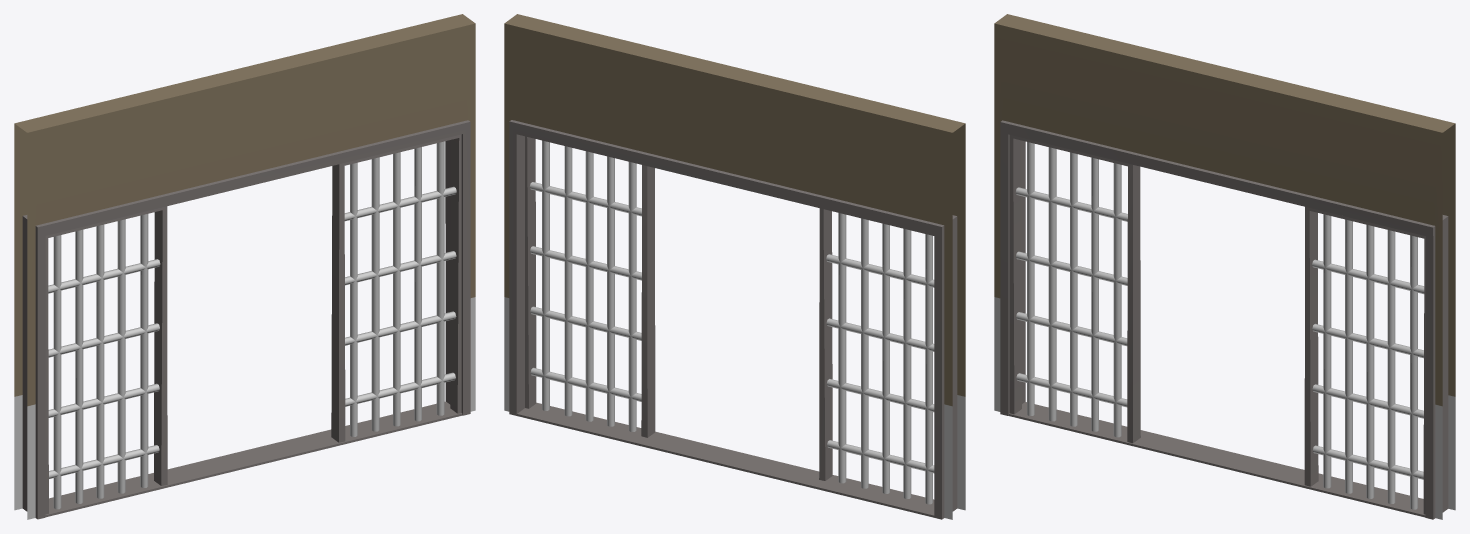
File: SM_DoorFrame_C_400.FBX
The picture shows the model from 3 angles, left to right: view 1: azimuth 30°, elevation 25°; view 2: azimuth 150°, elevation 25°; view 3: azimuth 330°, elevation 25°; orthographic projection.
Visible parts, largest first — view 1: SM_DoorFrame_C_400; view 2: SM_DoorFrame_C_400; view 3: SM_DoorFrame_C_400.
Boxes of the visible parts, <box> form: SM_DoorFrame_C_400: <box>14,14,475,519</box>; SM_DoorFrame_C_400: <box>504,14,965,519</box>; SM_DoorFrame_C_400: <box>994,14,1455,519</box>.
Size of the model in its own units: 400 by 27.28 by 330.
